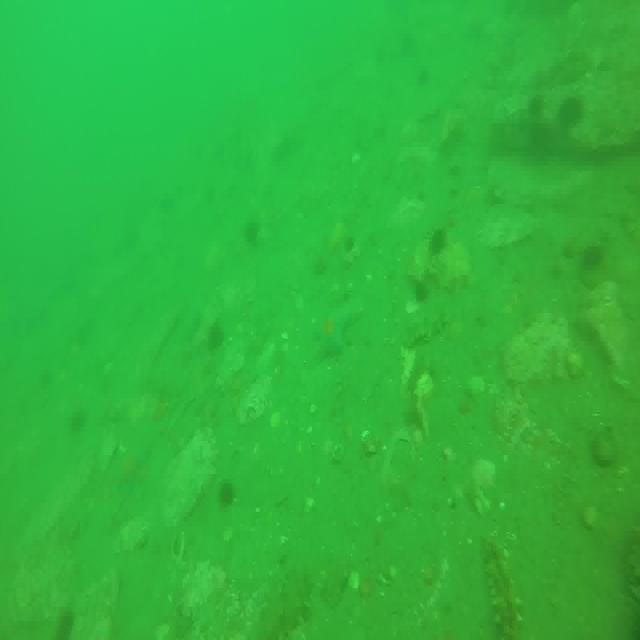echinus: (562, 94, 585, 125), (426, 225, 446, 257), (582, 241, 603, 267), (218, 481, 238, 506), (206, 320, 222, 350)
holothurian: (482, 533, 522, 640), (405, 305, 452, 356)
starfish: (320, 305, 350, 360)
